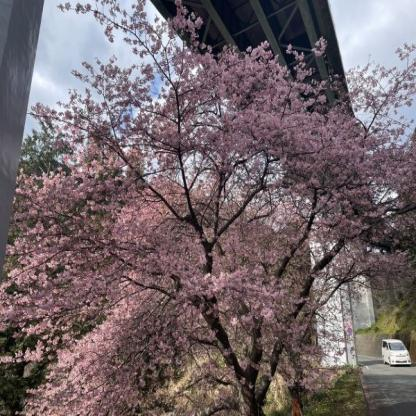KawazuSakura: (1, 0, 414, 415), (381, 337, 411, 367)
